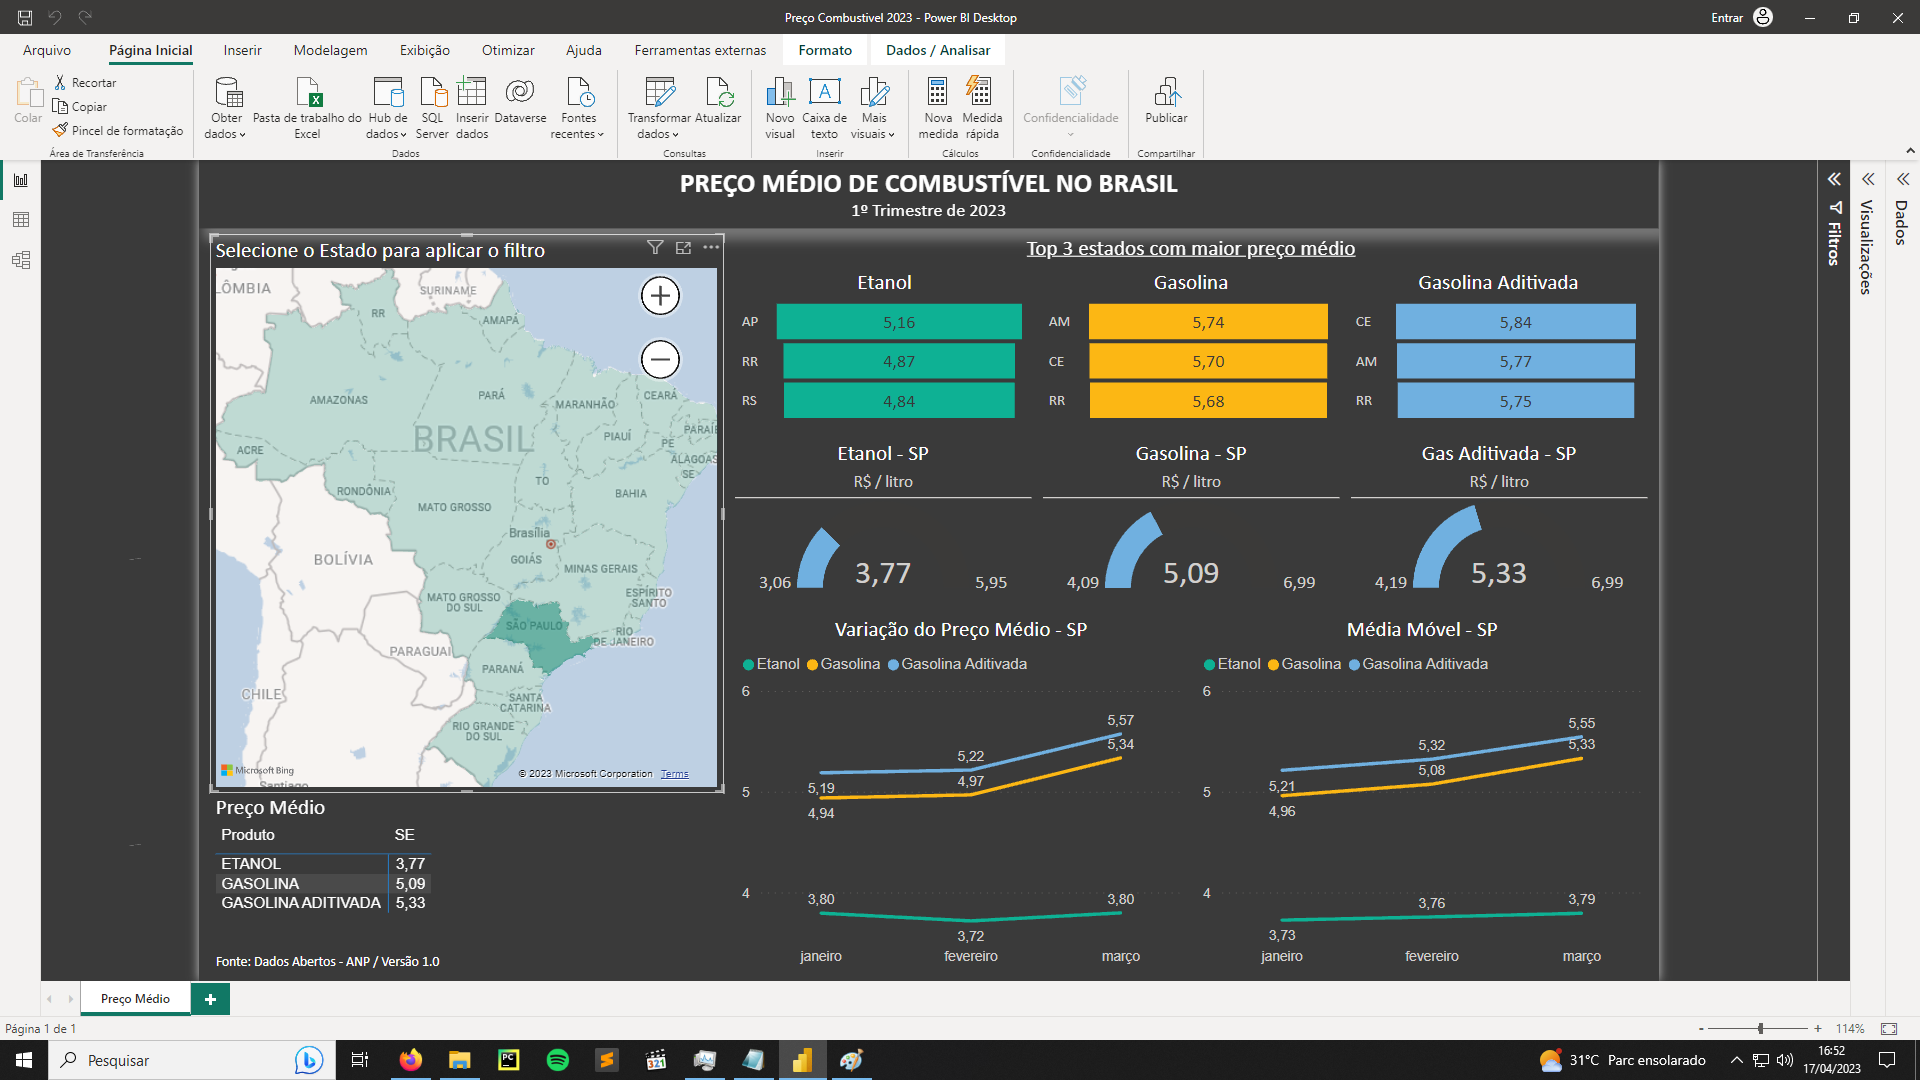

The page's visual inventory and layout, read from the dashboard file:
{"tool":"powerbi","page":{"name":"Preço Médio","canvas":[1280,720],"ordinal":0},"visuals":[{"type":"lineChart","fields":{"Category":["preco_tratado.Data_Coleta.Variation.Hierarquia de datas.Mês","preco_tratado.Data_Coleta.Variation.Hierarquia de datas.Dia"],"Y":["Medidas.MediaNacEtanol","Medidas.MediaNacGasComum","Medidas.MediaNacGasAdit"]},"box":[470.9,395,395,320],"z":0},{"type":"lineChart","fields":{"Y":["Medidas.Média móvel de MediaNacEtanol","Medidas.Média móvel de MediaNacGasComum","Medidas.Média móvel de MediaNacGasAdit"],"Category":["preco_tratado.Data_Coleta.Variation.Hierarquia de datas.Mês","preco_tratado.Data_Coleta.Variation.Hierarquia de datas.Dia"]},"box":[874.9,395,395.1,320],"z":1000},{"type":"filledMap","title":"Selecione o Estado para aplicar o filtro","fields":{"Category":["preco_tratado.Estado"]},"box":[10,65,450,490],"z":2000},{"type":"pivotTable","fields":{"Rows":["preco_tratado.Produto"],"Columns":["preco_tratado.Regiao"],"Values":["Medidas.MediaValorVenda"]},"box":[10,554.7,450,123.7],"z":3000},{"type":"funnel","title":"Gasolina ","fields":{"Category":["TOPMediaGas.Estado"],"Y":["Avg(TOPMediaGas.GAS)"]},"box":[740.2,95,260,140.1],"z":4000},{"type":"textbox","box":[0,0,1280,60],"z":5000},{"type":"funnel","title":"Gasolina Aditivada","fields":{"Category":["TOPMediaGasAdit.Estado"],"Y":["Avg(TOPMediaGasAdit.GAS_ADIT)"]},"box":[1009.6,95,260.7,140.1],"z":6000},{"type":"funnel","title":"Etanol","fields":{"Category":["TOPMediaEtanol.Estado"],"Y":["Avg(TOPMediaEtanol.ETANOL)"]},"box":[470.8,95,260.7,140.1],"z":7000},{"type":"textbox","title":"Top 3 estados com maior preço médio","box":[470.2,65,800.1,30],"z":8000},{"type":"textbox","box":[10,690,225.5,25.9],"z":9000},{"type":"textbox","box":[470,245.1,260,52],"z":10000},{"type":"gauge","fields":{"Y":["Medidas.MediaNacEtanol"],"MinValue":["Medidas.MinMediaNacEtanol"],"MaxValue":["Medidas.MaxMediaNacEtanol"]},"box":[470,297.6,259.7,87.5],"z":11000},{"type":"textbox","box":[740,245,260,52],"z":12000},{"type":"gauge","fields":{"Y":["Medidas.MediaNacGasComum"],"MinValue":["Medidas.MinMediaNacGas"],"MaxValue":["Medidas.MaxMediaNacGas"]},"box":[740,297,259.7,87.5],"z":13000},{"type":"textbox","box":[1010.7,245,260,52],"z":14000},{"type":"gauge","fields":{"Y":["Medidas.MediaNacGasAdit"],"MinValue":["Medidas.MinMediaNacGasAdt"],"MaxValue":["Medidas.MaxMediaNacGasAdt"]},"box":[1010.7,297,259.7,87.5],"z":15000}]}

Visuals, with their boxes on the page's 1280x720 design canvas (x1, y1, x2, y2). These are canvas units, not pixel positions in the 1920x1080 screenshot, which may show the page scaled, cropped or inside an application window:
lineChart - preco_tratado.Data_Coleta.Variation.Hierarquia de datas.Mês x preco_tratado.Data_Coleta.Variation.Hierarquia de datas.Dia: [471, 395, 866, 715]
lineChart - Medidas.Média móvel de MediaNacEtanol x Medidas.Média móvel de MediaNacGasComum: [875, 395, 1270, 715]
"Selecione o Estado para aplicar o filtro" filledMap: [10, 65, 460, 555]
pivotTable - preco_tratado.Produto x preco_tratado.Regiao: [10, 555, 460, 678]
"Gasolina " funnel: [740, 95, 1000, 235]
textbox: [0, 0, 1280, 60]
"Gasolina Aditivada" funnel: [1010, 95, 1270, 235]
"Etanol" funnel: [471, 95, 732, 235]
"Top 3 estados com maior preço médio" textbox: [470, 65, 1270, 95]
textbox: [10, 690, 236, 716]
textbox: [470, 245, 730, 297]
gauge - Medidas.MediaNacEtanol x Medidas.MinMediaNacEtanol: [470, 298, 730, 385]
textbox: [740, 245, 1000, 297]
gauge - Medidas.MediaNacGasComum x Medidas.MinMediaNacGas: [740, 297, 1000, 384]
textbox: [1011, 245, 1271, 297]
gauge - Medidas.MediaNacGasAdit x Medidas.MinMediaNacGasAdt: [1011, 297, 1270, 384]
